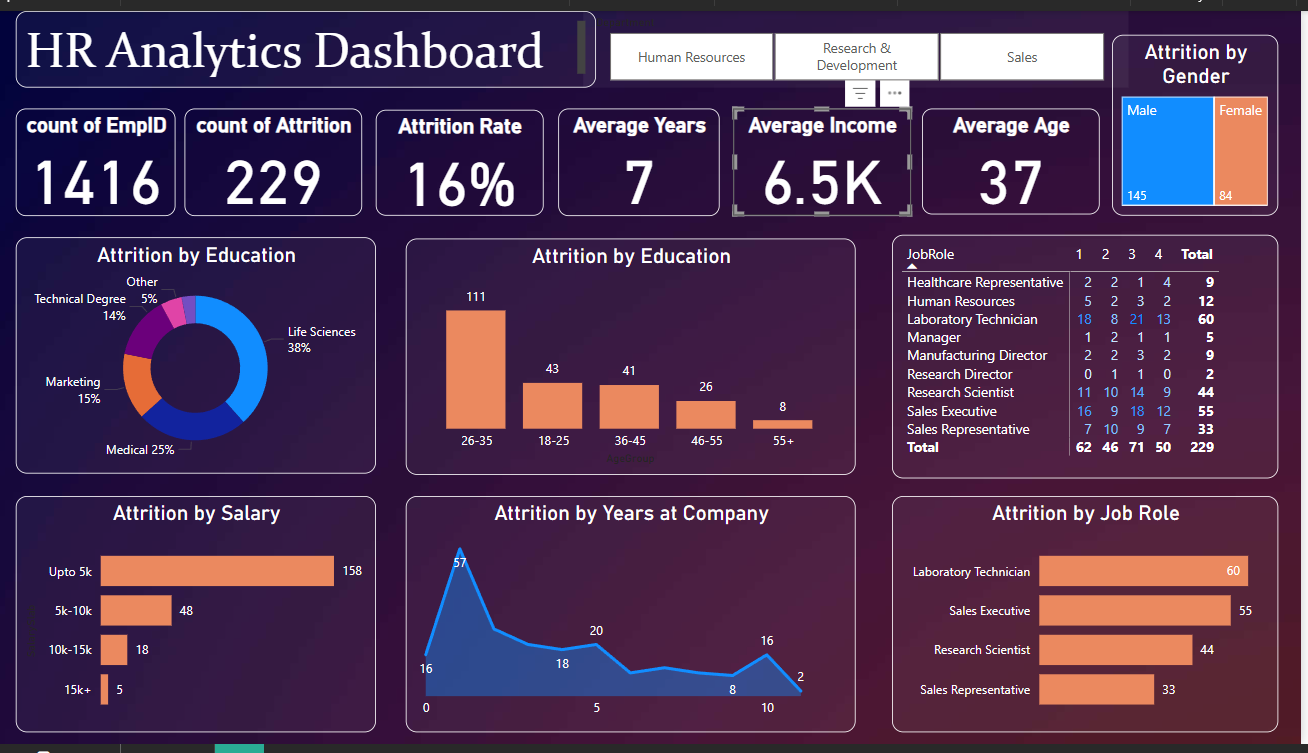

The dashboard page shown, as its layout file describes it:
{"tool":"powerbi","page":{"name":"Page 1","canvas":[1280,720],"ordinal":0},"visuals":[{"type":"card","title":"count of EmpID","fields":{"Values":["CountNonNull(HR_Analytics.EmpID)"]},"box":[18.4,95.7,157.1,105.5],"z":0},{"type":"card","title":"count of Attrition","fields":{"Values":["Sum(HR_Analytics.Attrition count)"]},"box":[184.1,95.7,174.2,105.5],"z":1000},{"type":"card","title":"Attrition Rate","fields":{"Values":["HR_Analytics.AttritionRate"]},"box":[371.8,96.9,164.4,104.3],"z":2000},{"type":"card","title":"Average Years","fields":{"Values":["Avg(HR_Analytics.YearsAtCompany)"]},"box":[550.9,95.7,158.3,105.5],"z":3000},{"type":"card","title":"Average Income","fields":{"Values":["Avg(HR_Analytics.MonthlyIncome)"]},"box":[722.7,95.7,174.2,104.3],"z":4000},{"type":"card","title":"Average Age","fields":{"Values":["Avg(HR_Analytics.Age)"]},"box":[908,95.7,174.2,104.3],"z":5000},{"type":"donutChart","title":" Attrition by Education","fields":{"Category":["HR_Analytics.EducationField"],"Y":["Sum(HR_Analytics.Attrition count)"]},"box":[18.4,222.1,353.4,231.9],"z":6000},{"type":"columnChart","title":" Attrition by Education","fields":{"Category":["HR_Analytics.AgeGroup"],"Y":["Sum(HR_Analytics.Attrition count)"]},"box":[401.2,223.3,441.7,231.9],"z":7000},{"type":"pivotTable","fields":{"Rows":["HR_Analytics.JobRole"],"Columns":["HR_Analytics.JobSatisfaction"],"Values":["Sum(HR_Analytics.Attrition count)"]},"box":[878.5,219.6,379.1,239.3],"z":8000},{"type":"barChart","title":" Attrition by Salary","fields":{"Category":["HR_Analytics.SalarySlab"],"Y":["Sum(HR_Analytics.Attrition count)"]},"box":[18.4,476.1,353.4,231.9],"z":9000},{"type":"clusteredBarChart","title":" Attrition by Job Role","fields":{"Category":["HR_Analytics.JobRole"],"Y":["Sum(HR_Analytics.Attrition count)"]},"box":[878.5,476.1,379.1,231.9],"z":10000},{"type":"areaChart","title":" Attrition by Years at Company","fields":{"Category":["HR_Analytics.YearsAtCompany"],"Y":["Sum(HR_Analytics.Attrition count)"]},"box":[401.2,476.1,441.7,231.9],"z":11000},{"type":"treemap","title":" Attrition by Gender","fields":{"Group":["HR_Analytics.Gender","HR_Analytics.AgeGroup"],"Values":["Sum(HR_Analytics.Attrition count)"]},"box":[1094.5,23.3,163.2,177.9],"z":12000},{"type":"slicer","fields":{"Values":["HR_Analytics.Department"]},"box":[575.5,0,535,74.8],"z":13000},{"type":"textbox","box":[18.4,0,569.3,74.8],"z":14000}]}

Visuals, with their boxes in screenshot pixels (x1, y1, x2, y2), scaled from the page's 1280x720 canvas onto the 1308x753 screenshot:
"count of EmpID" card: {"x1": 19, "y1": 100, "x2": 179, "y2": 210}
"count of Attrition" card: {"x1": 188, "y1": 100, "x2": 366, "y2": 210}
"Attrition Rate" card: {"x1": 380, "y1": 101, "x2": 548, "y2": 210}
"Average Years" card: {"x1": 563, "y1": 100, "x2": 725, "y2": 210}
"Average Income" card: {"x1": 739, "y1": 100, "x2": 917, "y2": 209}
"Average Age" card: {"x1": 928, "y1": 100, "x2": 1106, "y2": 209}
" Attrition by Education" donutChart: {"x1": 19, "y1": 232, "x2": 380, "y2": 475}
" Attrition by Education" columnChart: {"x1": 410, "y1": 234, "x2": 861, "y2": 476}
pivotTable - HR_Analytics.JobRole x HR_Analytics.JobSatisfaction: {"x1": 898, "y1": 230, "x2": 1285, "y2": 480}
" Attrition by Salary" barChart: {"x1": 19, "y1": 498, "x2": 380, "y2": 740}
" Attrition by Job Role" clusteredBarChart: {"x1": 898, "y1": 498, "x2": 1285, "y2": 740}
" Attrition by Years at Company" areaChart: {"x1": 410, "y1": 498, "x2": 861, "y2": 740}
" Attrition by Gender" treemap: {"x1": 1118, "y1": 24, "x2": 1285, "y2": 210}
slicer - HR_Analytics.Department: {"x1": 588, "y1": 0, "x2": 1135, "y2": 78}
textbox: {"x1": 19, "y1": 0, "x2": 601, "y2": 78}
